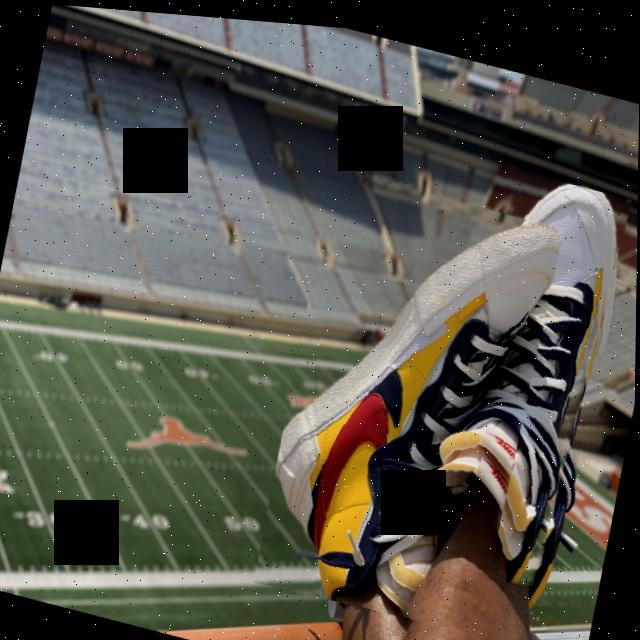shoe: (255, 158, 565, 638), (425, 153, 634, 596)
